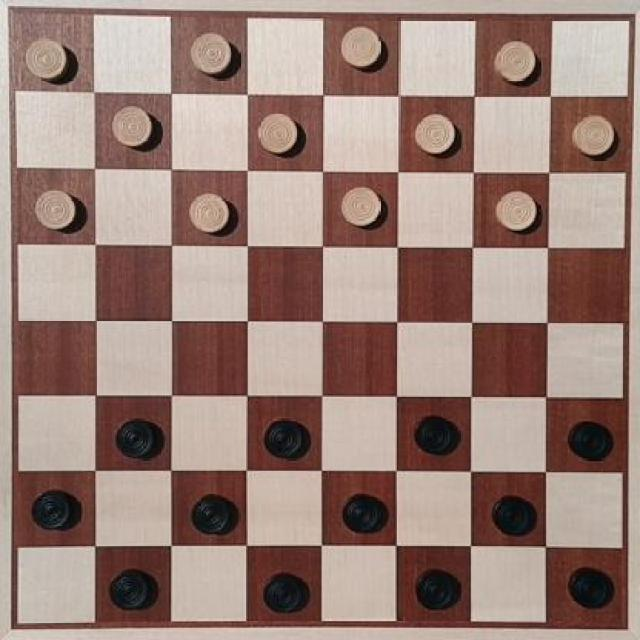BOARD: (10, 7, 630, 631)
black: (98, 408, 166, 466), (487, 481, 543, 543), (187, 480, 240, 543), (332, 483, 388, 542), (257, 404, 314, 461), (556, 560, 618, 612), (24, 485, 82, 539), (100, 560, 158, 614), (407, 556, 462, 612), (555, 414, 616, 464), (408, 410, 462, 466), (256, 570, 310, 616)
white: (328, 177, 393, 239), (20, 21, 72, 86), (486, 186, 546, 242), (254, 103, 306, 167), (564, 111, 622, 168), (24, 180, 84, 233), (326, 19, 386, 71), (178, 28, 236, 80), (411, 110, 468, 160), (490, 31, 540, 88), (183, 186, 233, 242), (108, 97, 159, 148)
